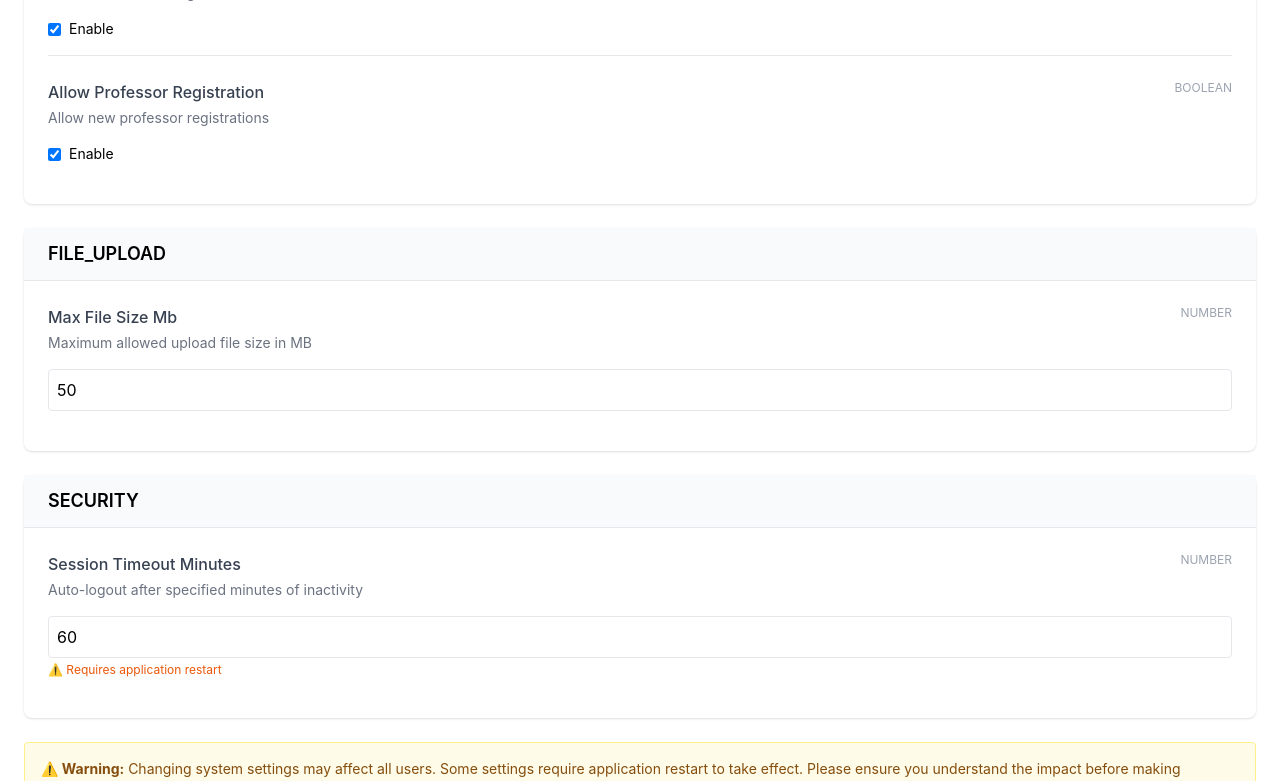
Test: SystemSettingsForm Tests › resets settings to original values when Reset is clicked
(page scrolled)
Note: Change a number input
Replace the text in the number field below "Maximum allowed upload file size in MB" with "100": (640, 390) [48,369,1232,411]
(page scrolled)
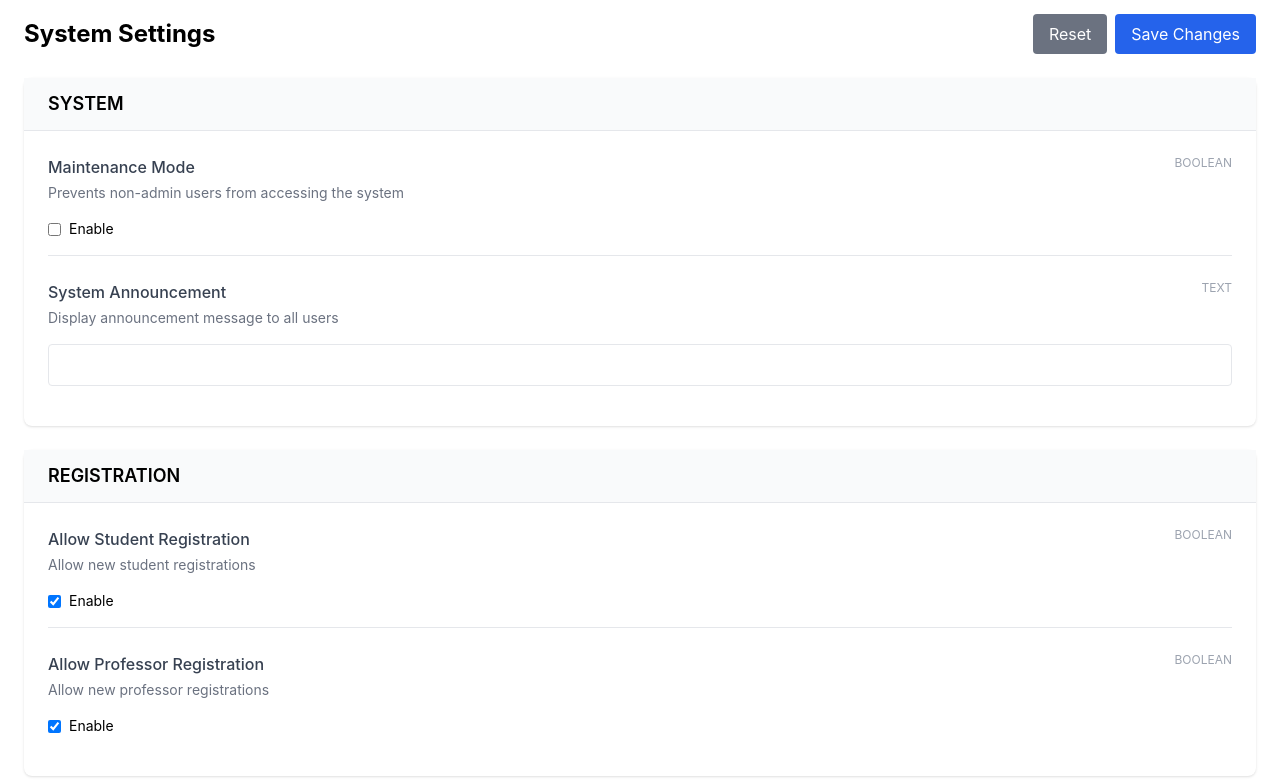
Note: Click Reset
Click the button "Reset": (1070, 34) [1033,14,1107,54]
(page scrolled)
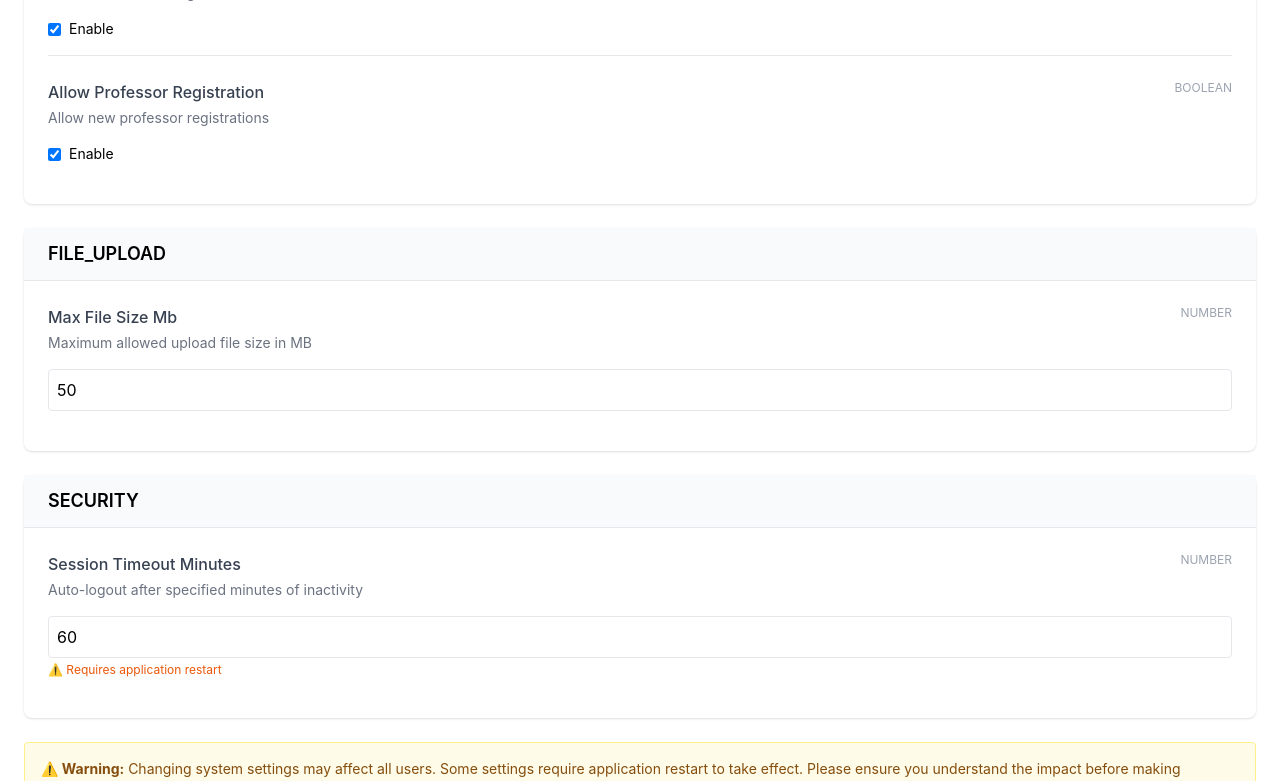
Check: the number field below "Maximum allowed upload file size in MB" holds "50", box [48,369,1232,411]
